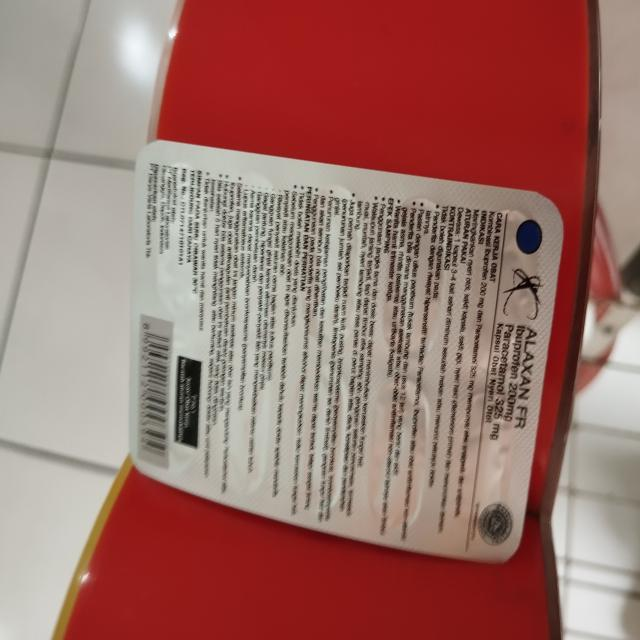B3: (127, 139, 561, 559)
